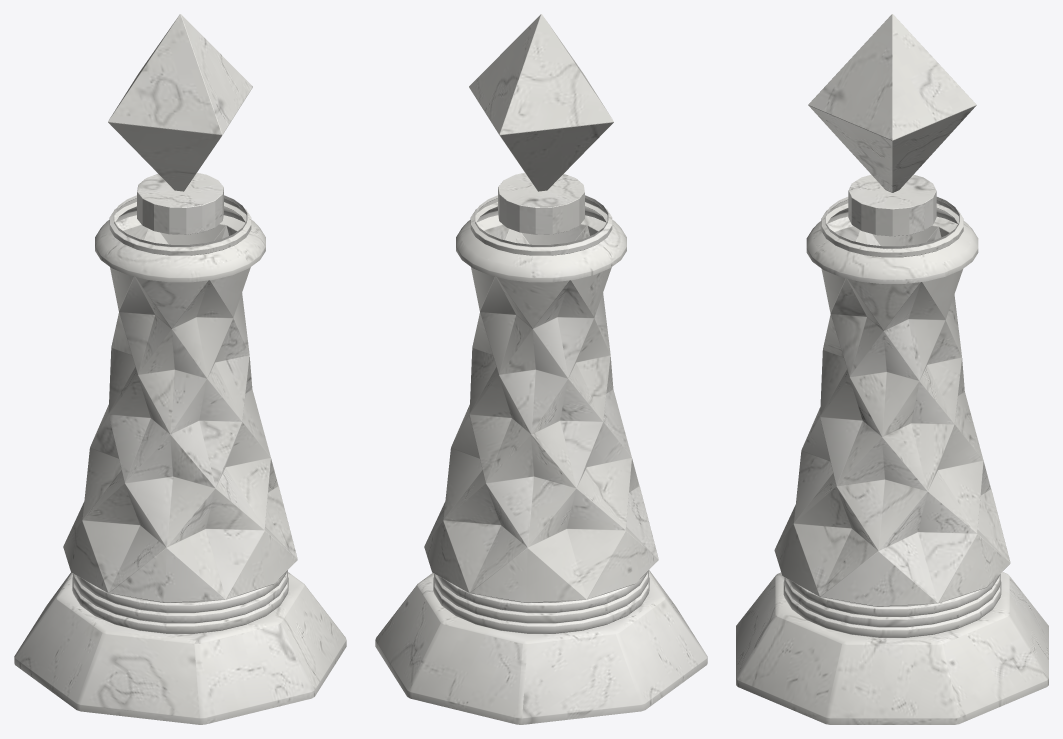
Rendered from marker-icon.glb.
3 views of the same model, side by side, from view 1: azimuth 30°, elevation 25°; view 2: azimuth 150°, elevation 25°; view 3: azimuth 270°, elevation 25° (orthographic).
Visible parts, largest first — view 1: Marker_Icon_LOD1; view 2: Marker_Icon_LOD1; view 3: Marker_Icon_LOD1.
Part boxes in pixels (x1,y1,x2,y2): Marker_Icon_LOD1: (14, 14, 346, 724); Marker_Icon_LOD1: (375, 14, 707, 724); Marker_Icon_LOD1: (736, 14, 1048, 724).
Bounding box in the file's own units: 0.4619 × 1.05 × 0.4619.
1 material, 1 textured.
